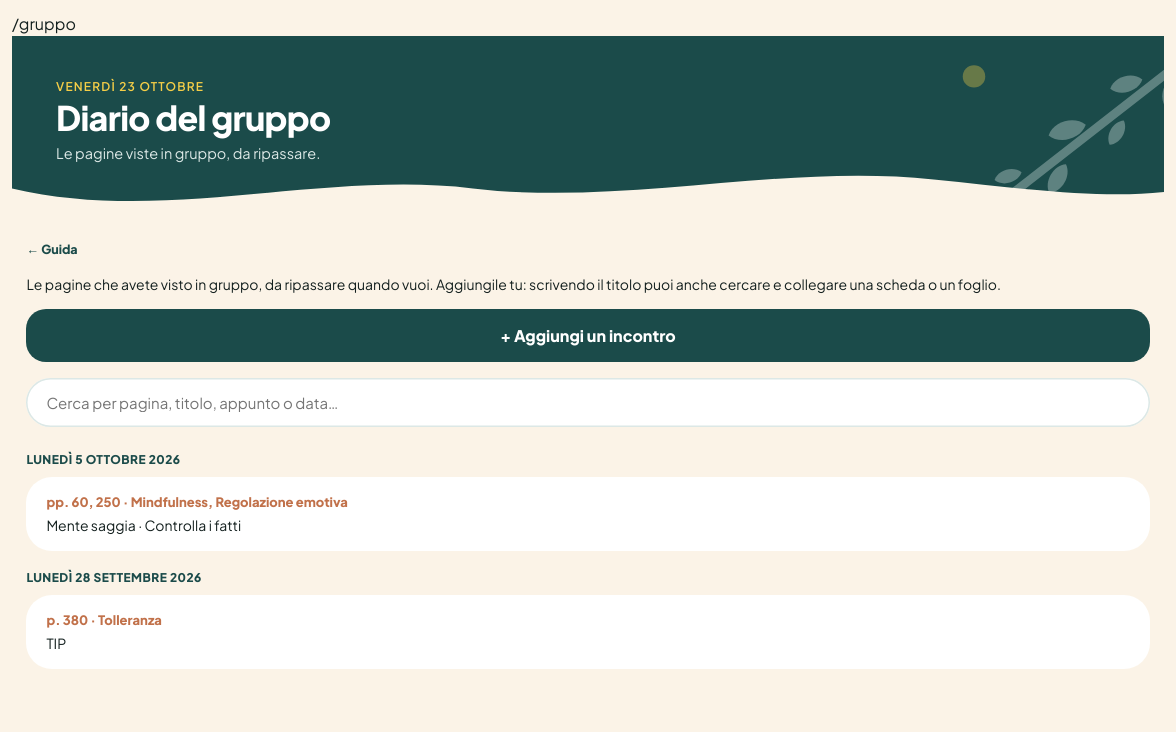
Test case: Diario del gruppo › elenca gli incontri dal più recente, senza quelli cancellati, e li cerca anche per appunto
The image size is (1176, 732).
Expected: the text "Mente saggia · Controlla i fatti" is shown, [46, 516, 241, 534]
Expected: the text "TIP" is shown, [46, 634, 66, 652]
In the search field named "Cerca negli incontri": [588, 403] box [26, 378, 1150, 427], type "diaframma"
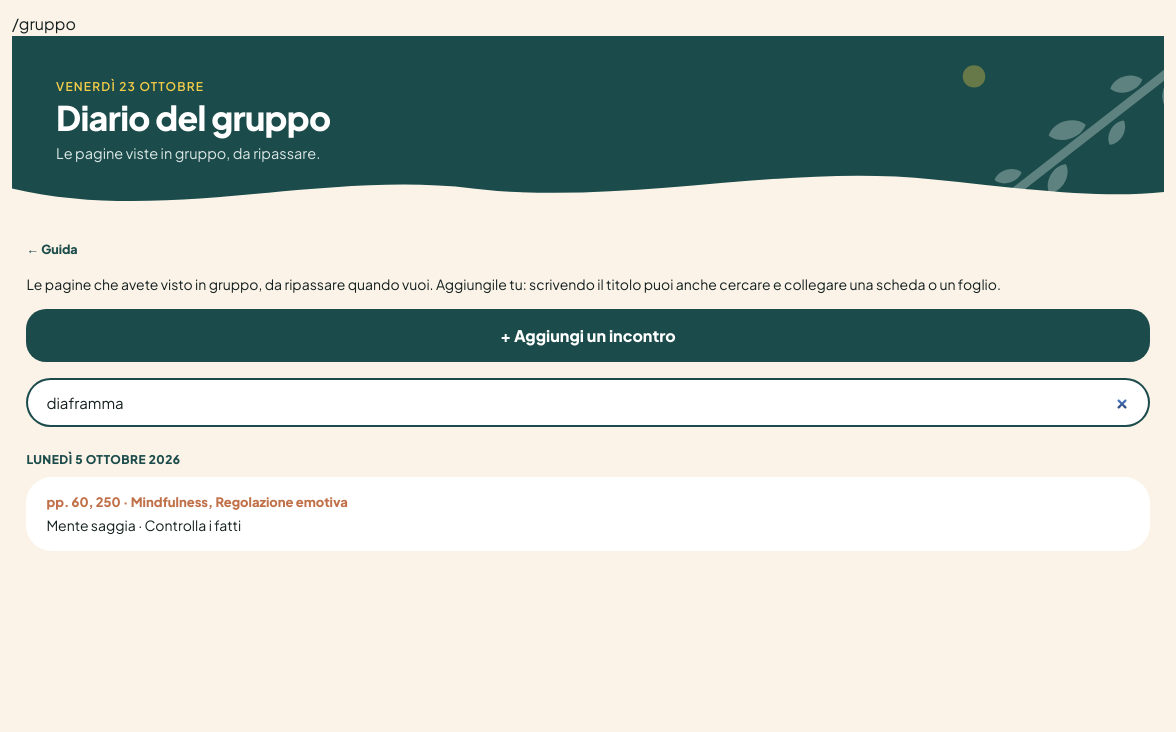
Expected: the text "Mente saggia · Controlla i fatti" is shown, [46, 516, 241, 534]
Expected: the link "TIP" is gone
